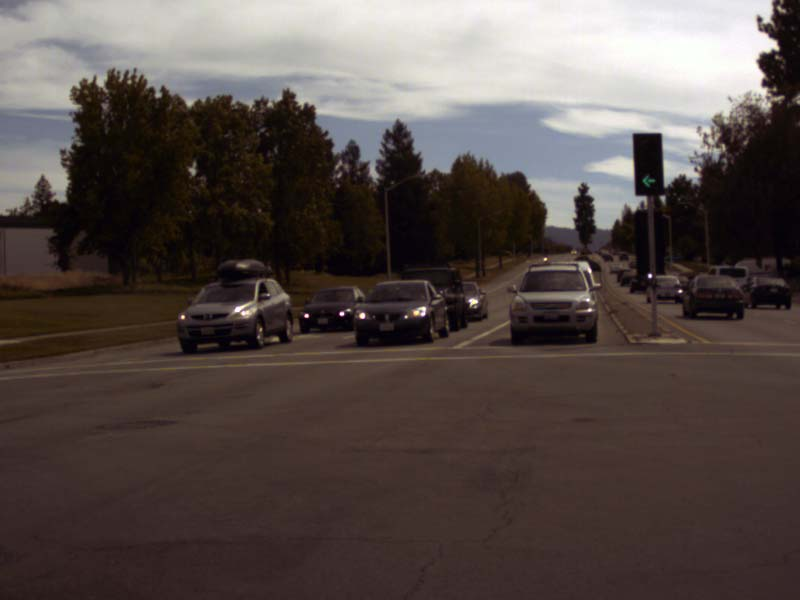Green: (631, 133, 663, 196)
